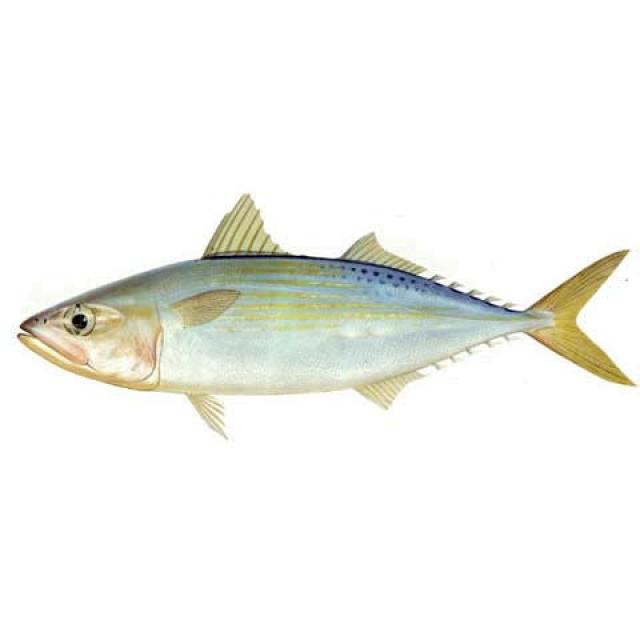Mackerel: (16, 195, 632, 437)
